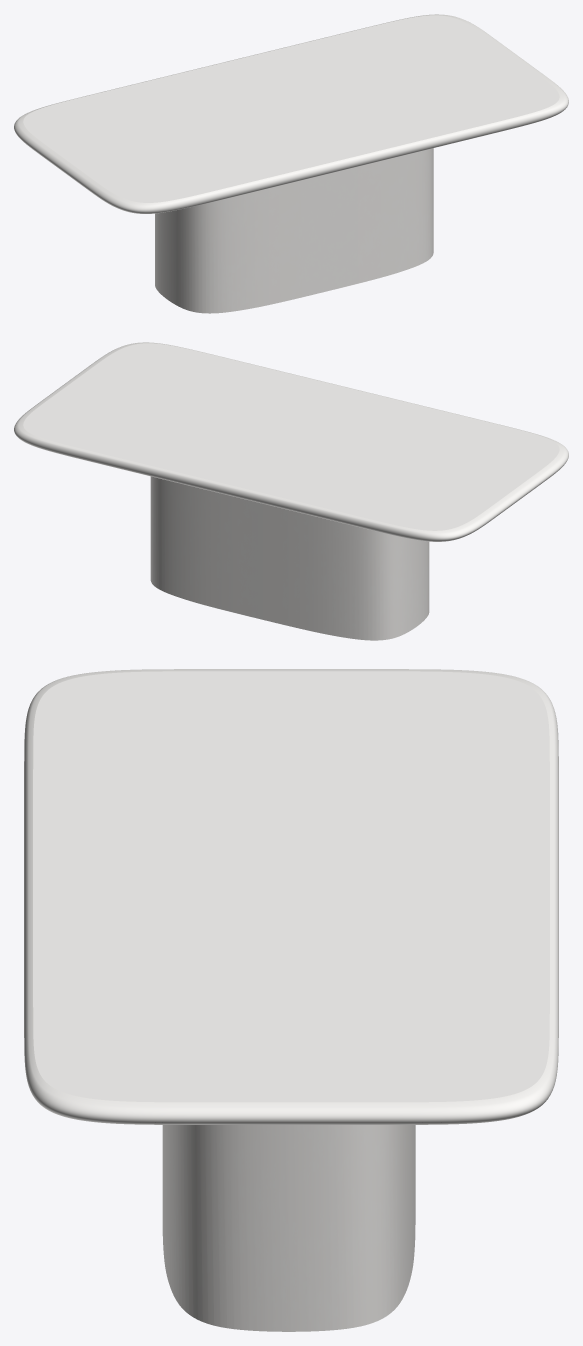
Rendered from purewhite_softrecta_round_fixed.glb.
3 views of the same model, one above another, from view 1: azimuth 30°, elevation 25°; view 2: azimuth 150°, elevation 25°; view 3: azimuth 270°, elevation 25° (orthographic). The views are drawn at different scales.
Parts seen in each view (by area): view 1: round_softrecta, fixed; view 2: round_softrecta, fixed; view 3: round_softrecta, fixed.
Boxes of the visible parts, x1,y1,x2,y2 form: round_softrecta: (14,14,568,213); fixed: (155,148,433,313); round_softrecta: (14,342,568,541); fixed: (150,476,429,640); round_softrecta: (24,669,558,1124); fixed: (162,1125,415,1331).
Size of the model in its own units: 7.5 by 2.5 by 3.8.
1 material, 1 textured.
